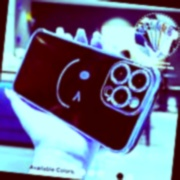iphone: (14, 33, 159, 152)
